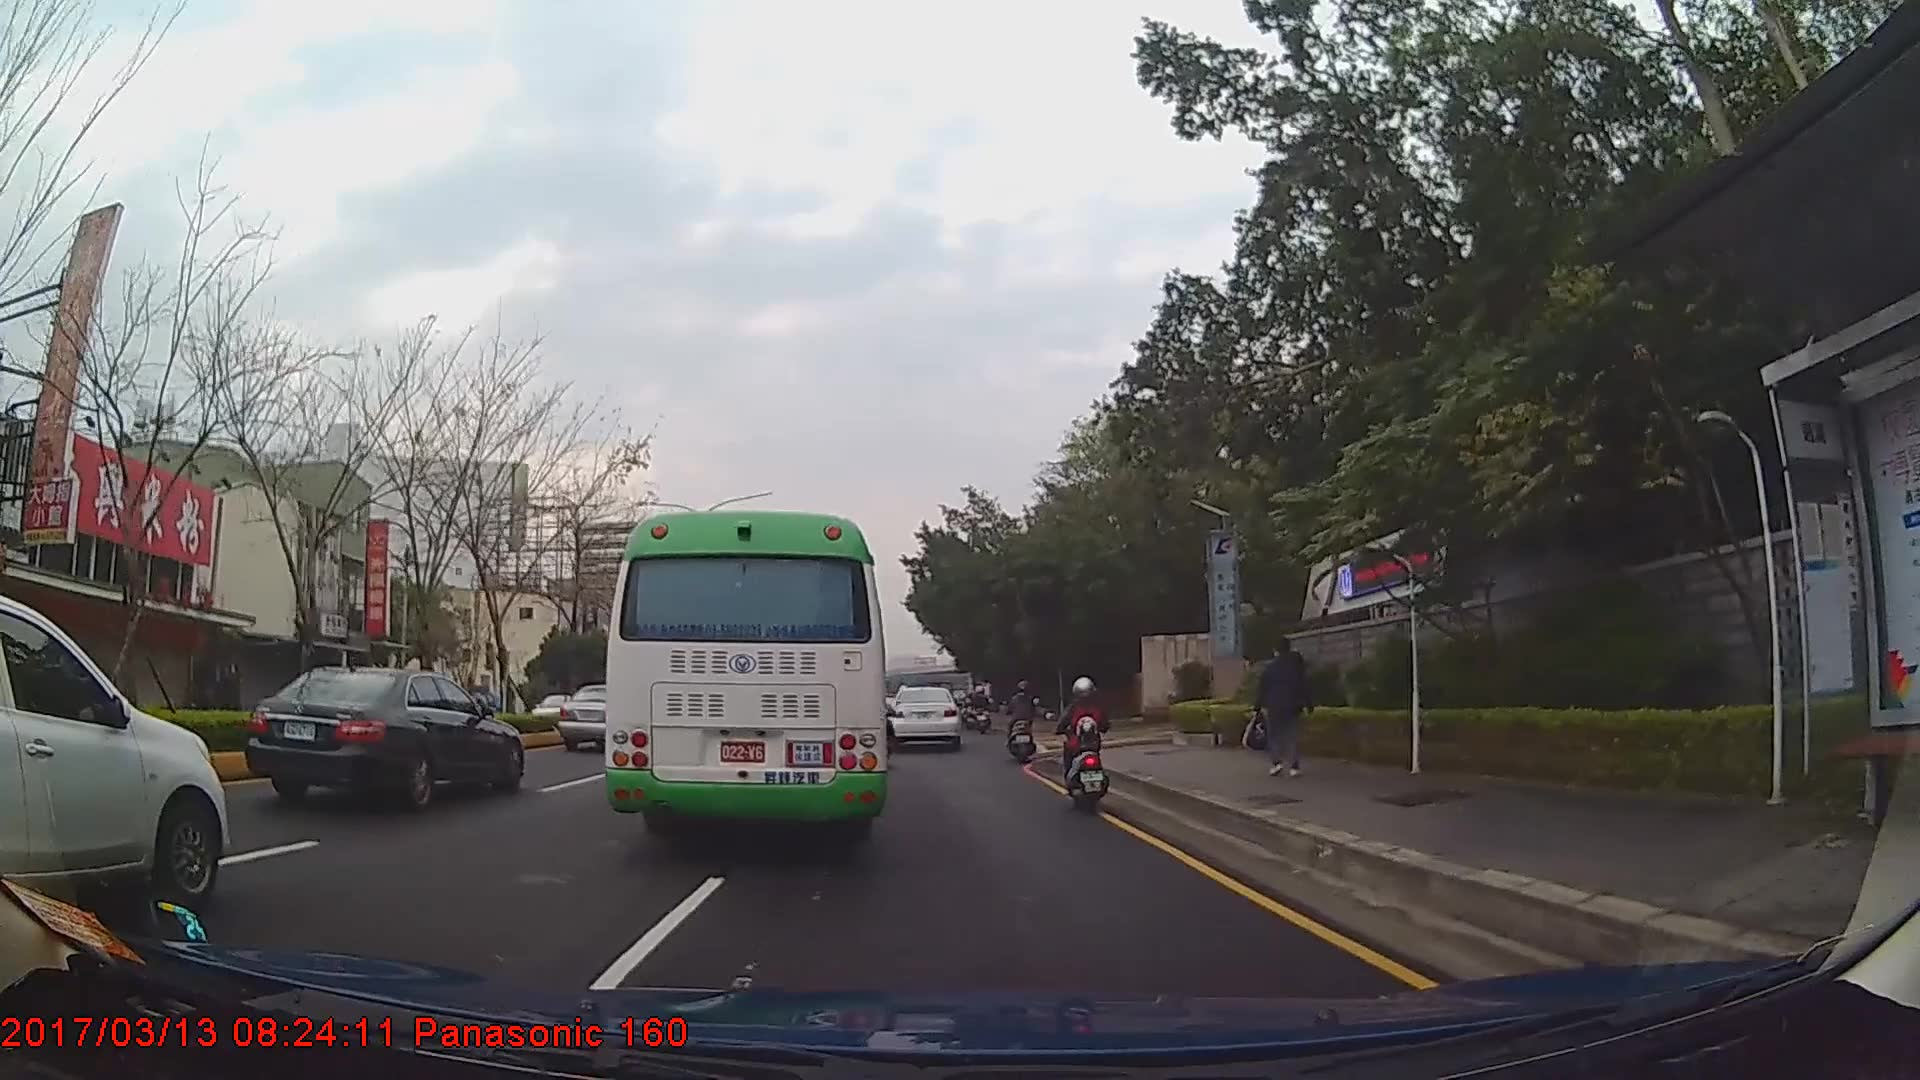pedestrian: (1246, 636, 1320, 779)
rider: (1061, 677, 1112, 805), (860, 681, 900, 770), (1007, 675, 1042, 759), (971, 685, 991, 721)
vehicle: (601, 508, 889, 852), (0, 590, 230, 910), (244, 663, 522, 808), (556, 679, 649, 750), (890, 684, 959, 748)
